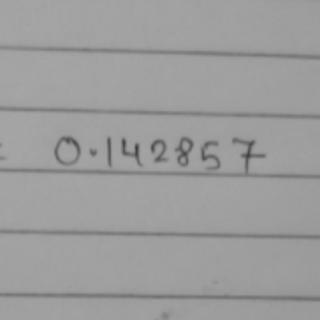.: (86, 146, 98, 156)
0: (54, 135, 81, 167)
1: (105, 136, 113, 171)
2: (149, 137, 169, 163)
4: (120, 136, 142, 168)
5: (201, 140, 223, 172)
7: (232, 134, 266, 175)
8: (177, 138, 195, 167)
